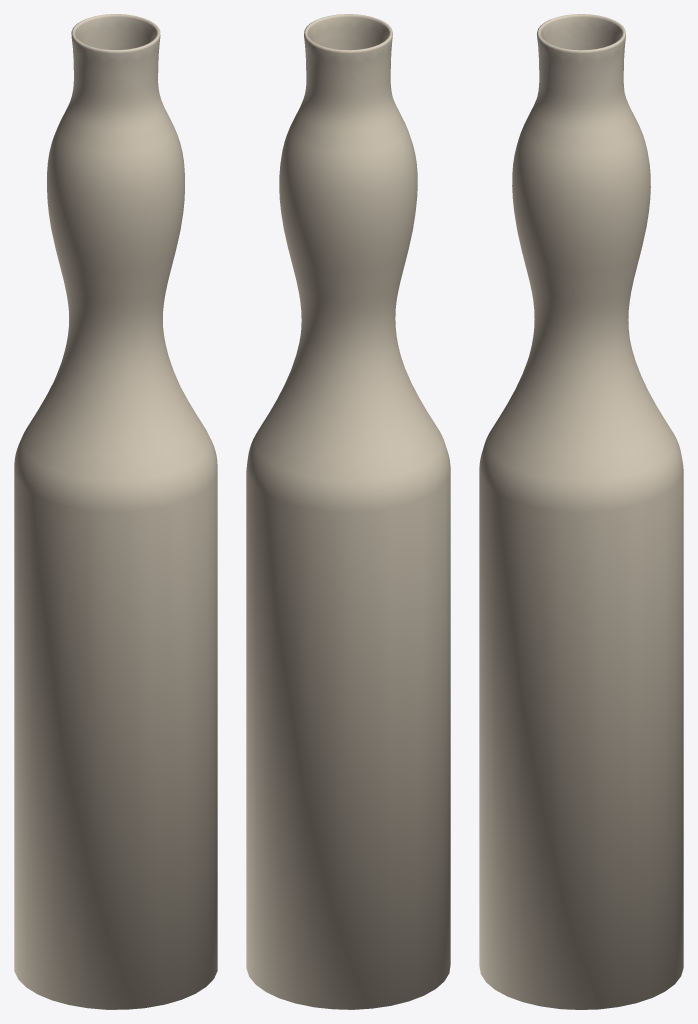
File: Scultura3.fbx
3 views of the same model, side by side, from view 1: azimuth 30°, elevation 25°; view 2: azimuth 150°, elevation 25°; view 3: azimuth 270°, elevation 25° (orthographic).
Parts seen in each view (by area): view 1: Scultura3; view 2: Scultura3; view 3: Scultura3.
Boxes of the visible parts, bbox=[...] form: Scultura3: bbox=[14, 14, 217, 1009]; Scultura3: bbox=[246, 14, 450, 1009]; Scultura3: bbox=[479, 14, 683, 1009].
Size of the model in its own units: 20.76 by 105 by 20.76.
